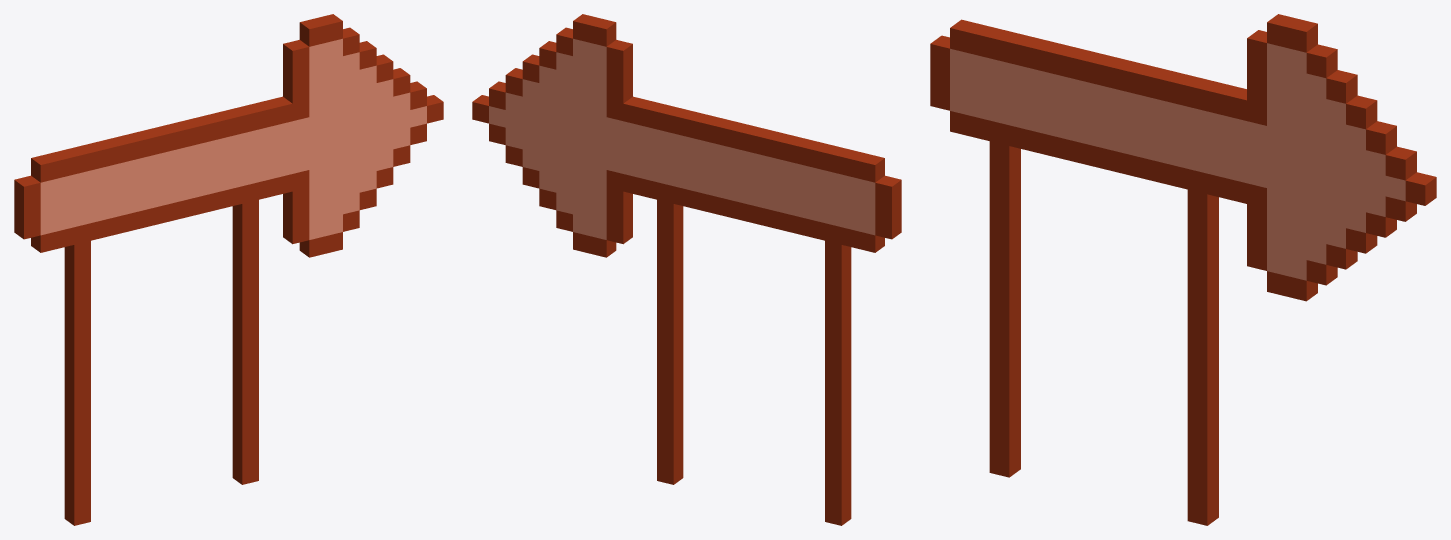
File: Arrow.obj
The picture shows the model from 3 angles, left to right: view 1: azimuth 30°, elevation 25°; view 2: azimuth 150°, elevation 25°; view 3: azimuth 330°, elevation 25°; orthographic projection. The views are drawn at different scales.
Parts seen in each view (by area): view 1: Arrow; view 2: Arrow; view 3: Arrow.
Boxes of the visible parts, <box> form: Arrow: <box>14,14,443,525</box>; Arrow: <box>472,14,901,525</box>; Arrow: <box>930,14,1436,525</box>.
Bounding box in the file's own units: 25 × 25 × 1.
1 material, 1 textured.
